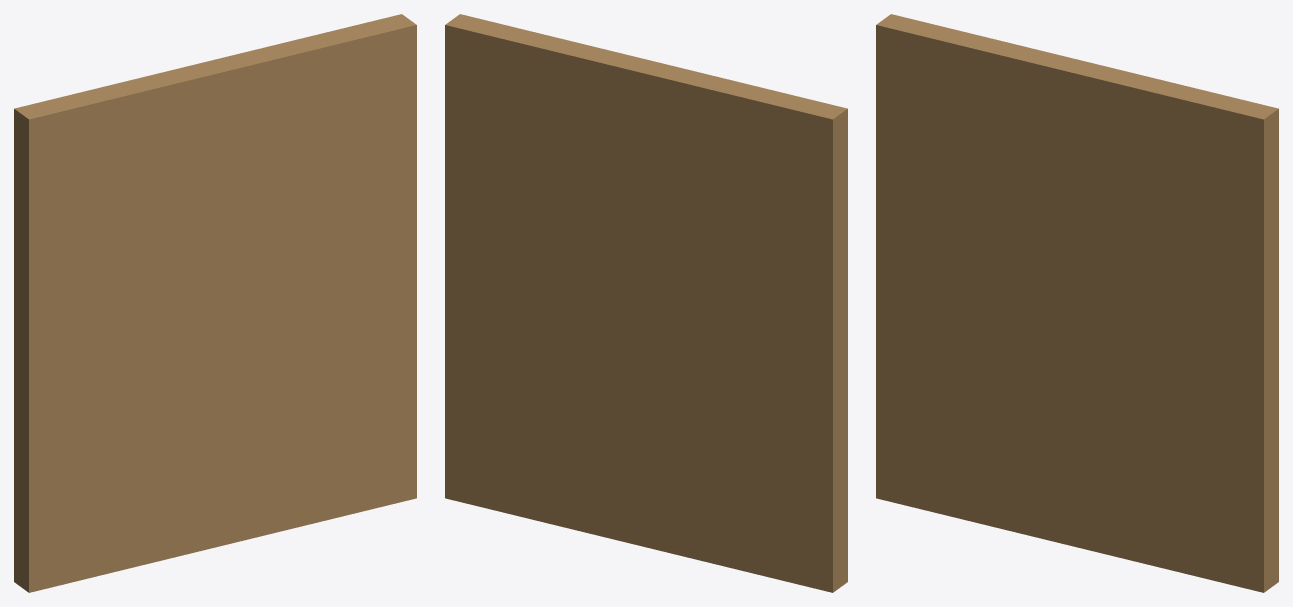
Rendered from env_window_01.glb.
3 renders of one model, left to right at view 1: azimuth 30°, elevation 25°; view 2: azimuth 150°, elevation 25°; view 3: azimuth 330°, elevation 25°, orthographic.
Parts seen in each view (by area): view 1: env_window_01; view 2: env_window_01; view 3: env_window_01.
Boxes of the visible parts, x1,y1,x2,y2 form: env_window_01: [14, 14, 416, 592]; env_window_01: [445, 14, 847, 592]; env_window_01: [876, 14, 1278, 592].
Size of the model in its own units: 1.2 by 1.4 by 0.08.
